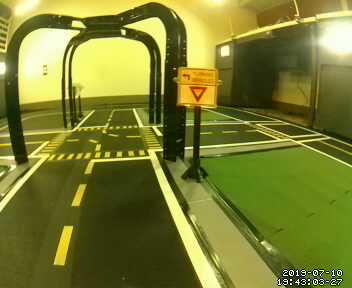Turn Yield: (175, 64, 218, 110)
